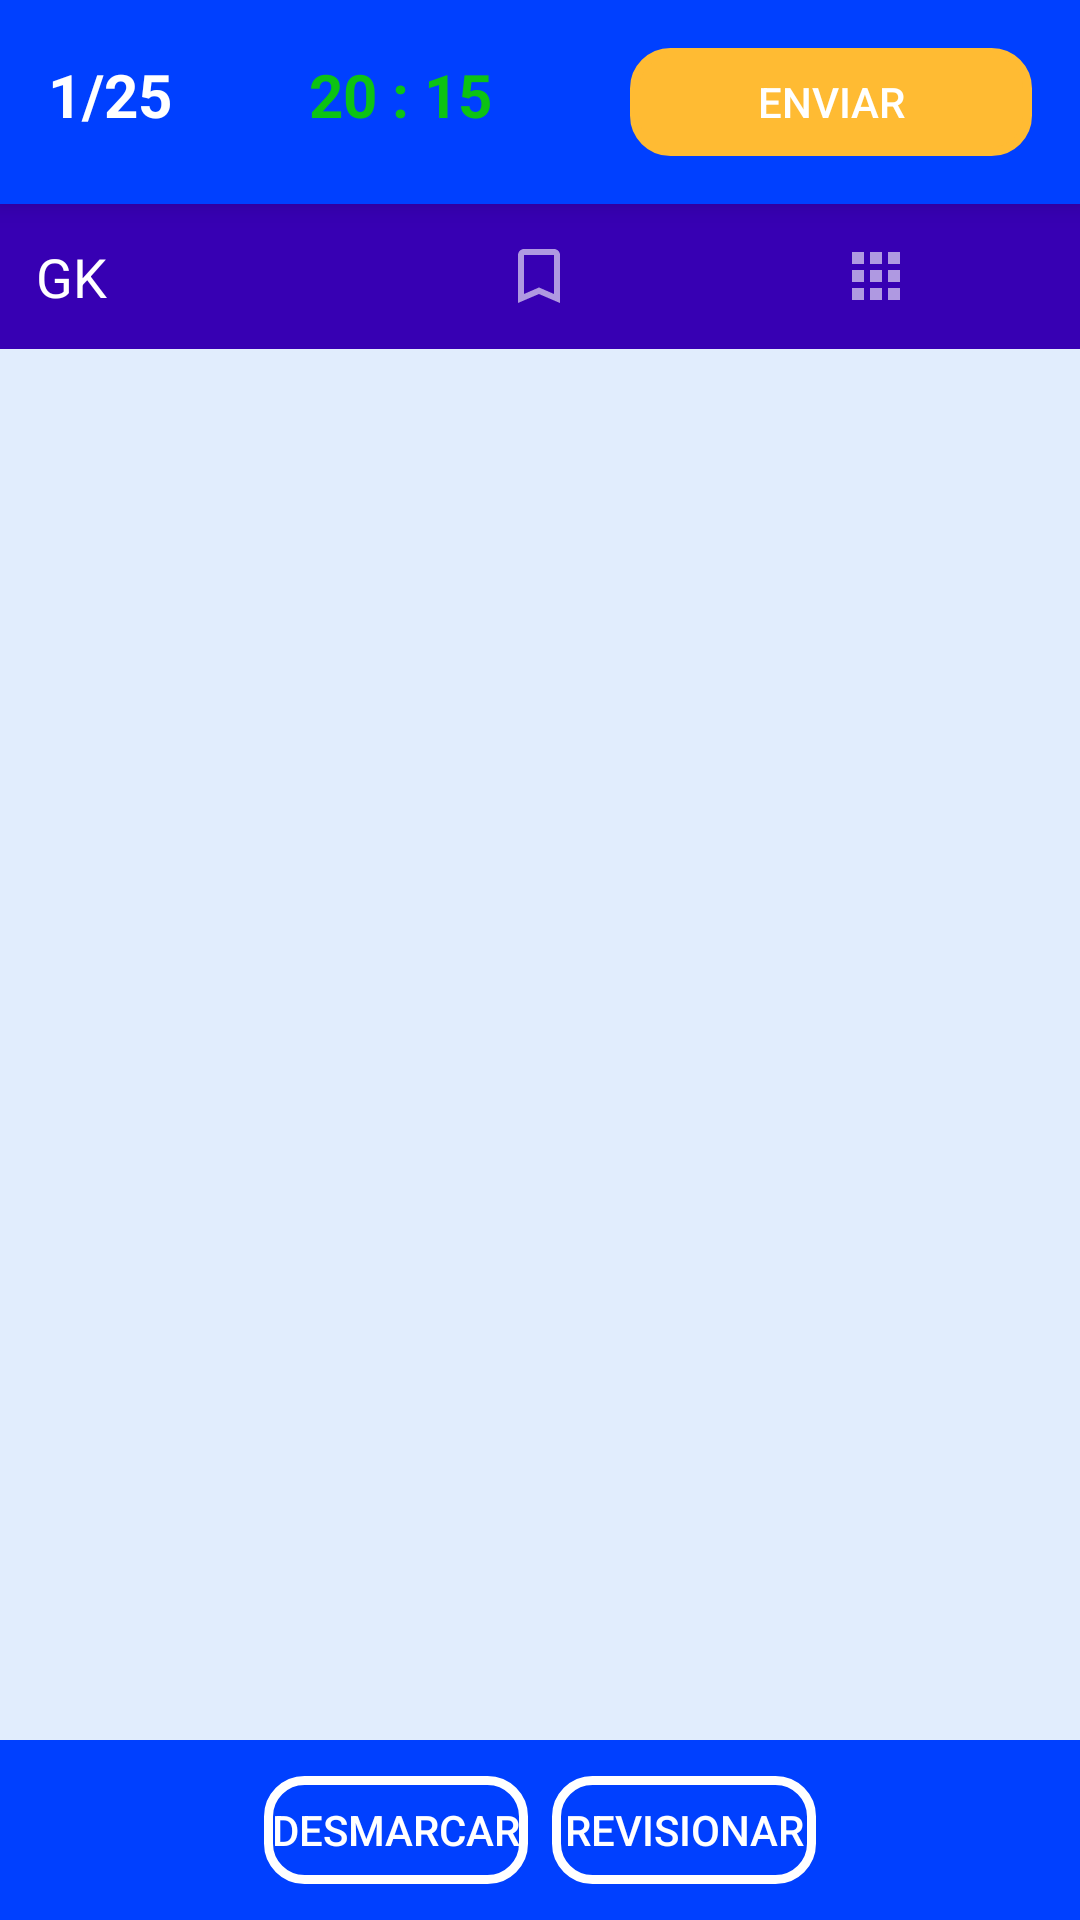

Screen size 1080×1920. Icon name, then its box in pixels as BBox(x1, y1, x2, y2):
bookmark: BBox(518, 249, 560, 303)
